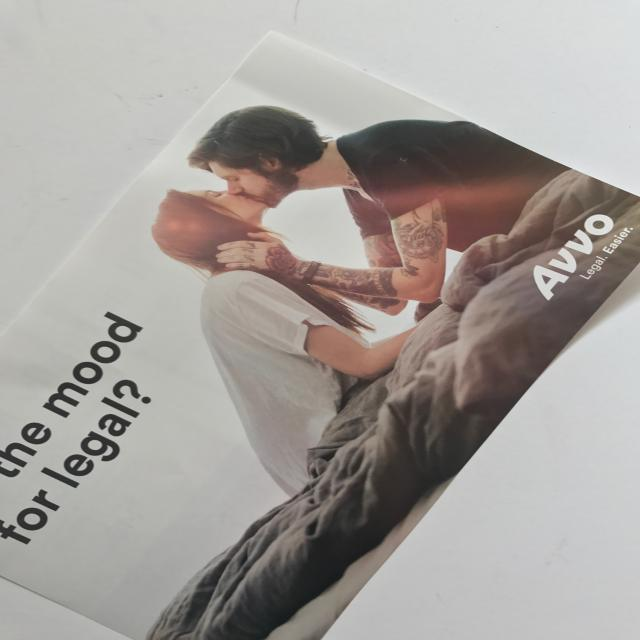paper: (1, 23, 640, 639)
